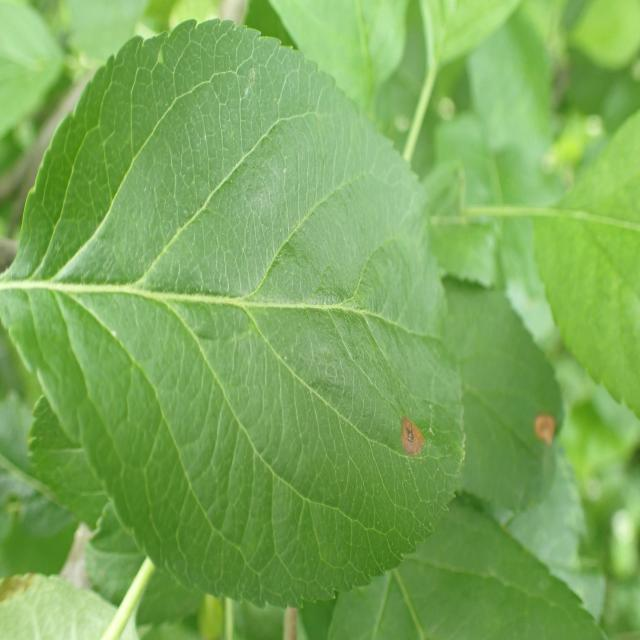Black Rot: (520, 392, 570, 462), (395, 405, 431, 478)
